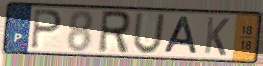8: (66, 9, 97, 54)
A: (162, 15, 199, 56)
K: (202, 15, 232, 58)
P: (29, 8, 64, 51)
R: (96, 9, 133, 56)
U: (131, 12, 167, 56)
